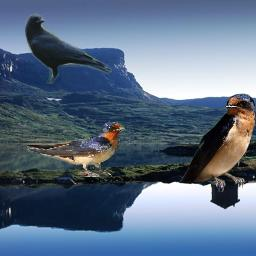Crow: (25, 13, 112, 84)
Swallow: (179, 93, 255, 192), (27, 122, 125, 177)
